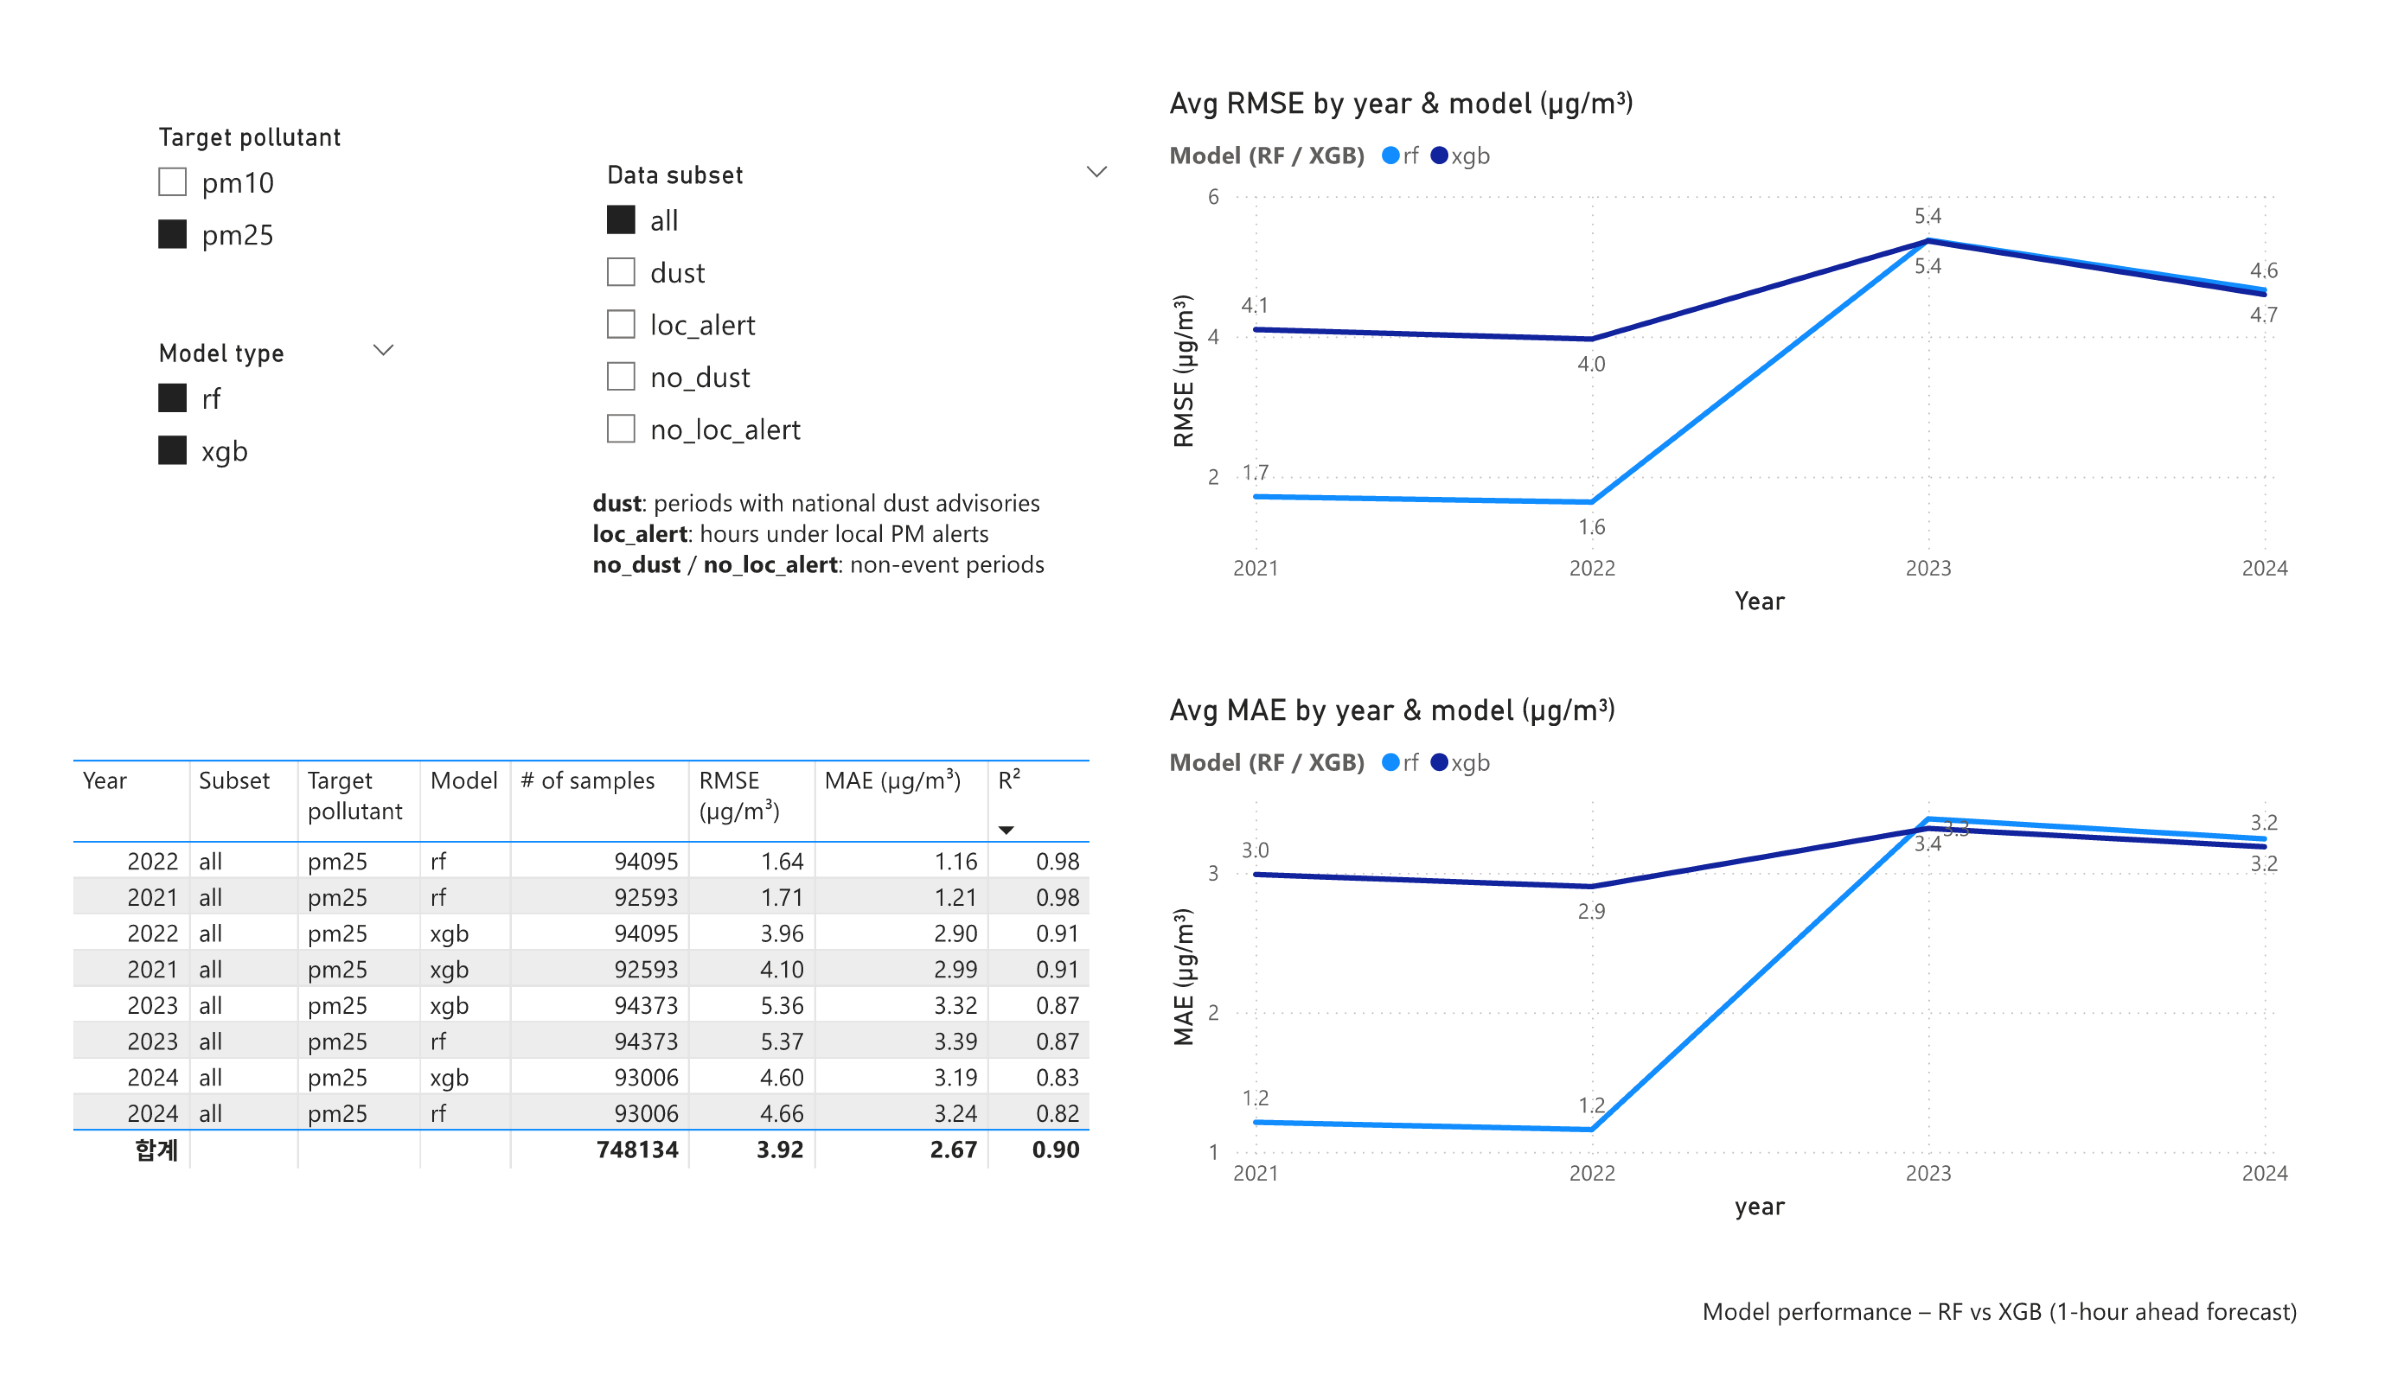

Layout of this report page (visuals, bound fields, positions):
{"tool":"powerbi","page":{"name":"Model performance","canvas":[1280,720],"ordinal":3},"visuals":[{"type":"slicer","fields":{"Values":["ModelPerf_2021_2024.target"]},"box":[50.6,38.9,166.3,119.6],"z":0},{"type":"tableEx","fields":{"Values":["ModelPerf_2021_2024.year","ModelPerf_2021_2024.subset","ModelPerf_2021_2024.target","ModelPerf_2021_2024.model","Sum(ModelPerf_2021_2024.n_samples)","Avg(ModelPerf_2021_2024.rmse)","Avg(ModelPerf_2021_2024.mae)","Avg(ModelPerf_2021_2024.r2)"]},"box":[10.9,393,593.6,274.3],"z":1000},{"type":"slicer","fields":{"Values":["ModelPerf_2021_2024.subset"]},"box":[299.6,60.3,304.4,196.5],"z":2000},{"type":"slicer","fields":{"Values":["ModelPerf_2021_2024.model"]},"box":[50.6,158.5,157.6,119.6],"z":3000},{"type":"lineChart","title":"Avg RMSE by year & model (µg/m³)","fields":{"Category":["ModelPerf_2021_2024.year"],"Y":["Avg(ModelPerf_2021_2024.rmse)"],"Series":["ModelPerf_2021_2024.model"]},"box":[619.6,23.3,631.2,299.6],"z":4000},{"type":"lineChart","title":"Avg MAE by year & model (µg/m³)","fields":{"Category":["ModelPerf_2021_2024.year"],"Series":["ModelPerf_2021_2024.model"],"Y":["Avg(ModelPerf_2021_2024.mae)"]},"box":[619.6,359.9,631.2,299.6],"z":5000},{"type":"textbox","box":[299.6,241.2,299.6,72.9],"z":6000},{"type":"textbox","box":[876.2,690,385,30],"z":7000}]}

Visuals, with their boxes in screenshot pixels (x1, y1, x2, y2), scaled from the page's 1280x720 canvas onto the 2392x1383 screenshot:
slicer - ModelPerf_2021_2024.target: {"left": 95, "top": 75, "right": 405, "bottom": 304}
tableEx - ModelPerf_2021_2024.year x ModelPerf_2021_2024.subset: {"left": 20, "top": 755, "right": 1130, "bottom": 1282}
slicer - ModelPerf_2021_2024.subset: {"left": 560, "top": 116, "right": 1129, "bottom": 493}
slicer - ModelPerf_2021_2024.model: {"left": 95, "top": 304, "right": 389, "bottom": 534}
"Avg RMSE by year & model (µg/m³)" lineChart: {"left": 1158, "top": 45, "right": 2337, "bottom": 620}
"Avg MAE by year & model (µg/m³)" lineChart: {"left": 1158, "top": 691, "right": 2337, "bottom": 1267}
textbox: {"left": 560, "top": 463, "right": 1120, "bottom": 603}
textbox: {"left": 1637, "top": 1325, "right": 2357, "bottom": 1382}
